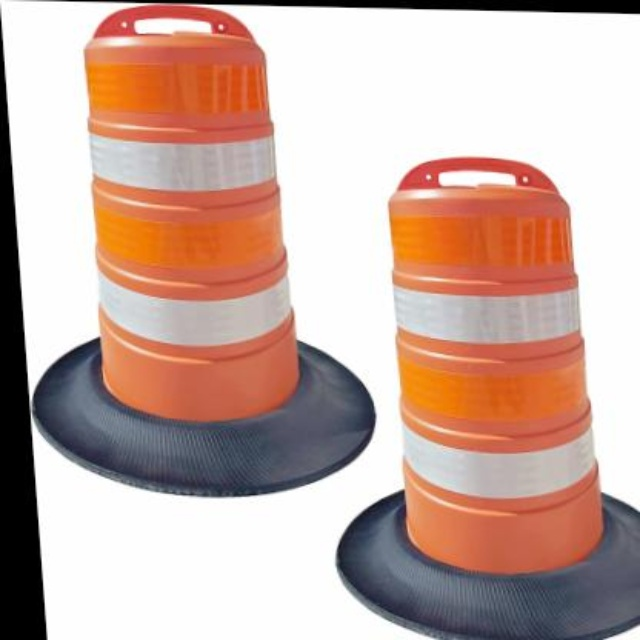obstacle: (65, 8, 313, 435), (369, 155, 610, 577)
